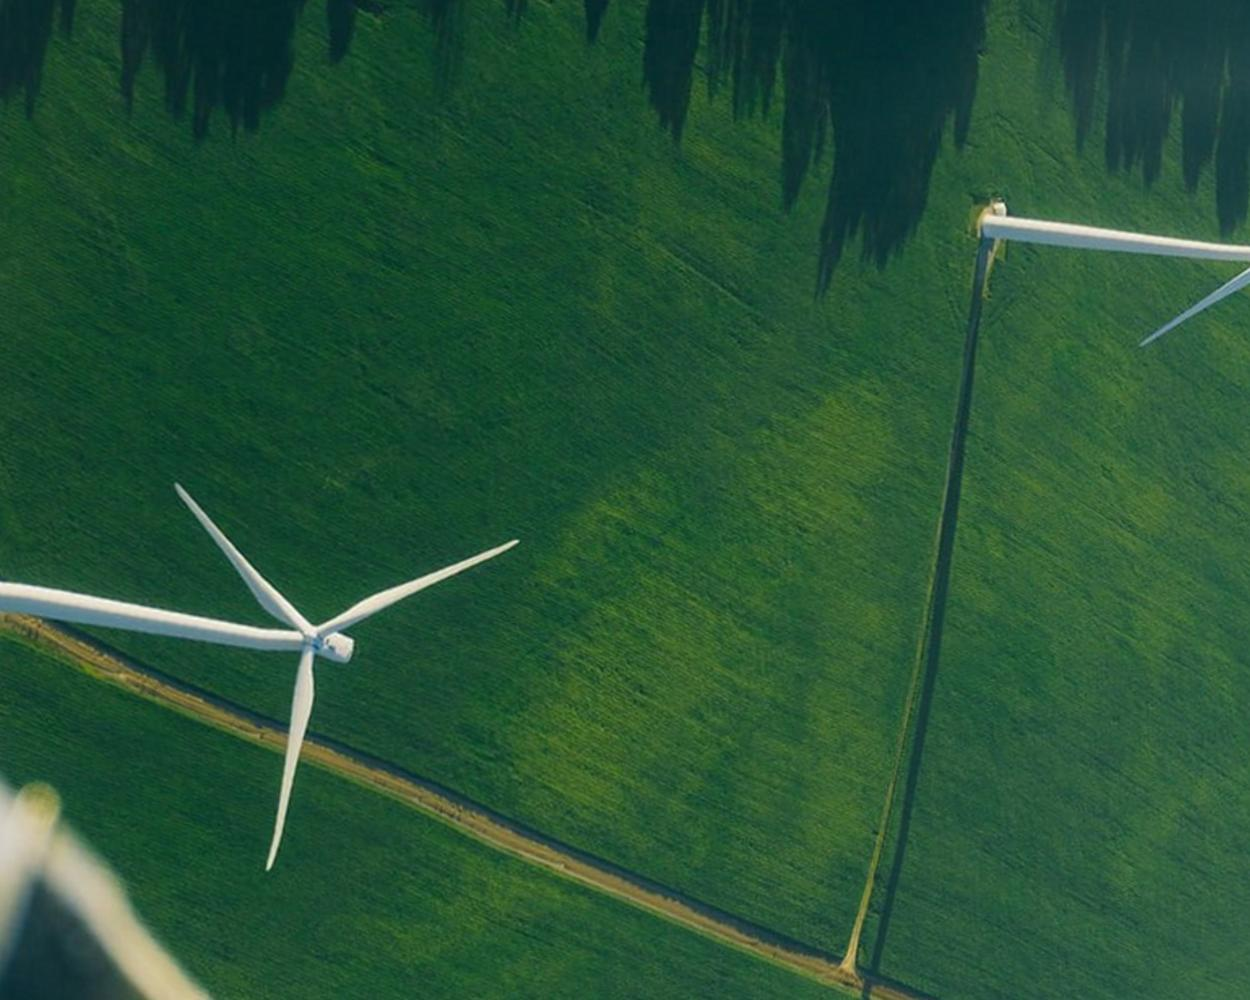working: (108, 479, 524, 797)
